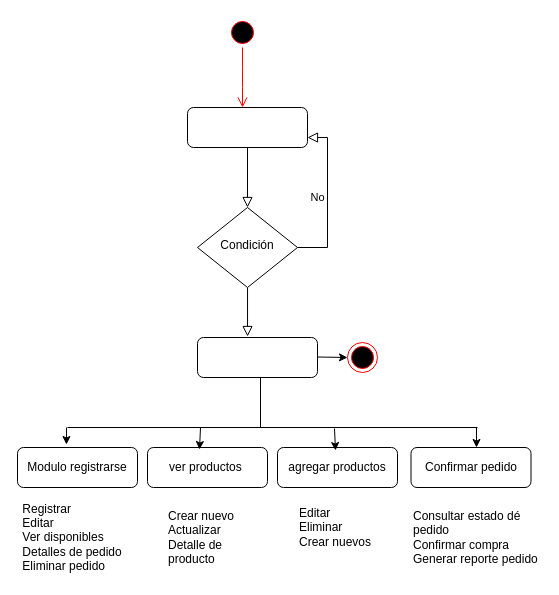
This 559x595 diagram has some shape labels left out. Each missing label, with the centre of its shape:
"Inicio de sesión" belongs at pixel 247 127.
"Pagina de inicio" belongs at pixel 257 357.
